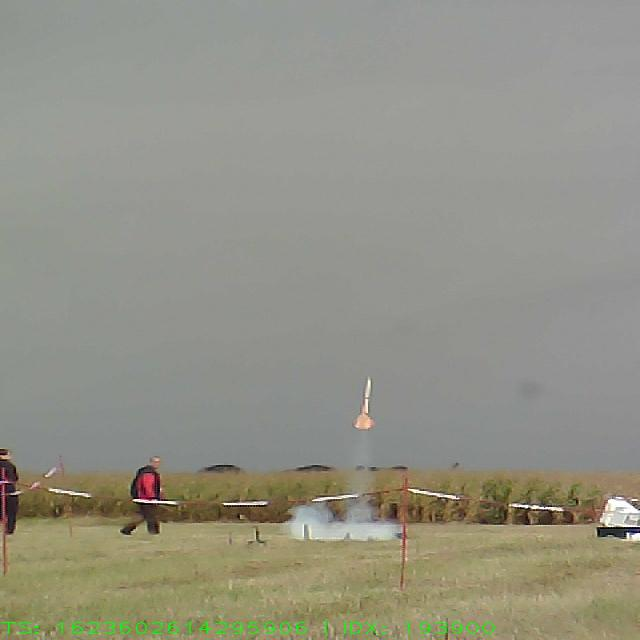Rocket: (352, 375, 376, 431)
